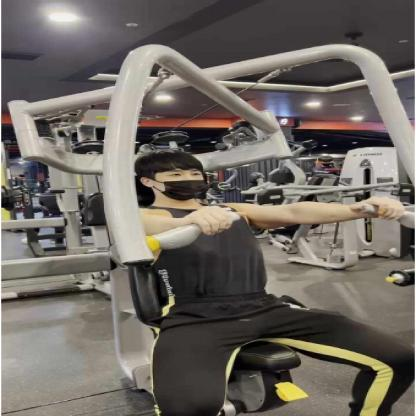Chest Press machine: (6, 33, 416, 416)
